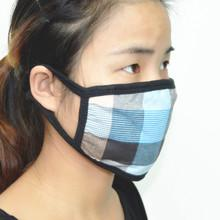OK: (49, 41, 181, 173)
